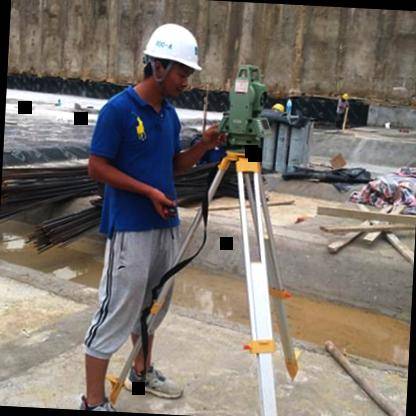helmet: (139, 16, 206, 104)
